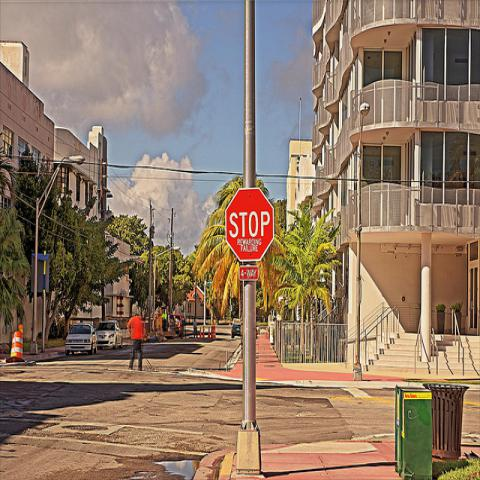car: (65, 323, 97, 356), (95, 320, 123, 350), (170, 313, 184, 339), (232, 321, 241, 339)
